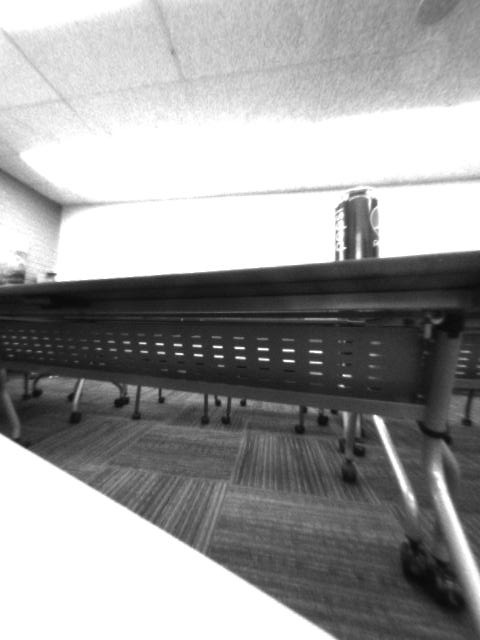can: (331, 188, 383, 263)
